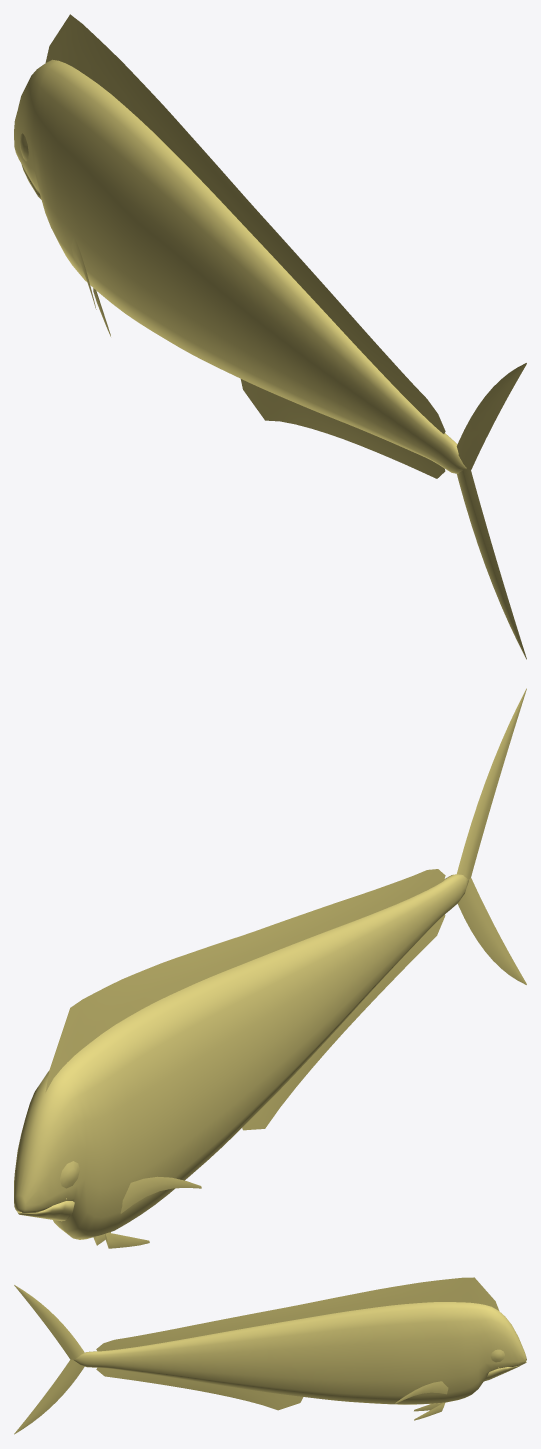
File: mahi_mahi_lo.glb
3 renders of one model, top to bottom at view 1: azimuth 30°, elevation 25°; view 2: azimuth 150°, elevation 25°; view 3: azimuth 270°, elevation 25°, orthographic. The views are drawn at different scales.
Parts seen in each view (by area): view 1: mahi_mahi_lo; view 2: mahi_mahi_lo; view 3: mahi_mahi_lo.
Boxes of the visible parts, bbox=[...] form: mahi_mahi_lo: bbox=[14, 14, 526, 659]; mahi_mahi_lo: bbox=[14, 688, 526, 1248]; mahi_mahi_lo: bbox=[14, 1277, 526, 1434].
Bounding box in the file's own units: 0.1433 × 0.4045 × 1.2.
